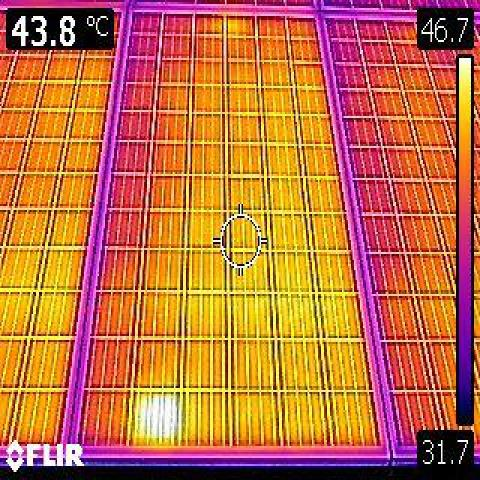fault: (132, 388, 183, 448)
